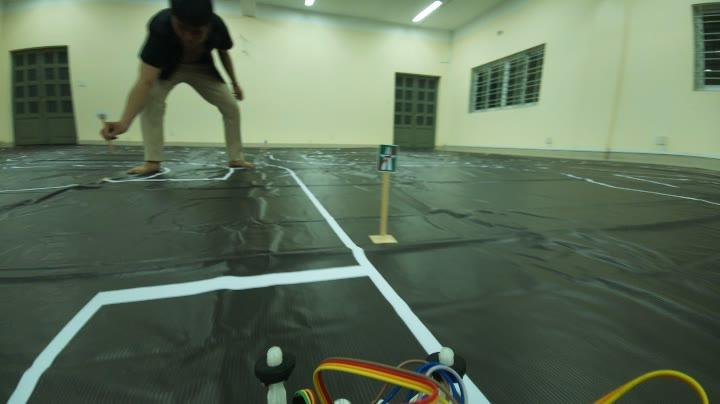highway_exit: (375, 144, 401, 180)
